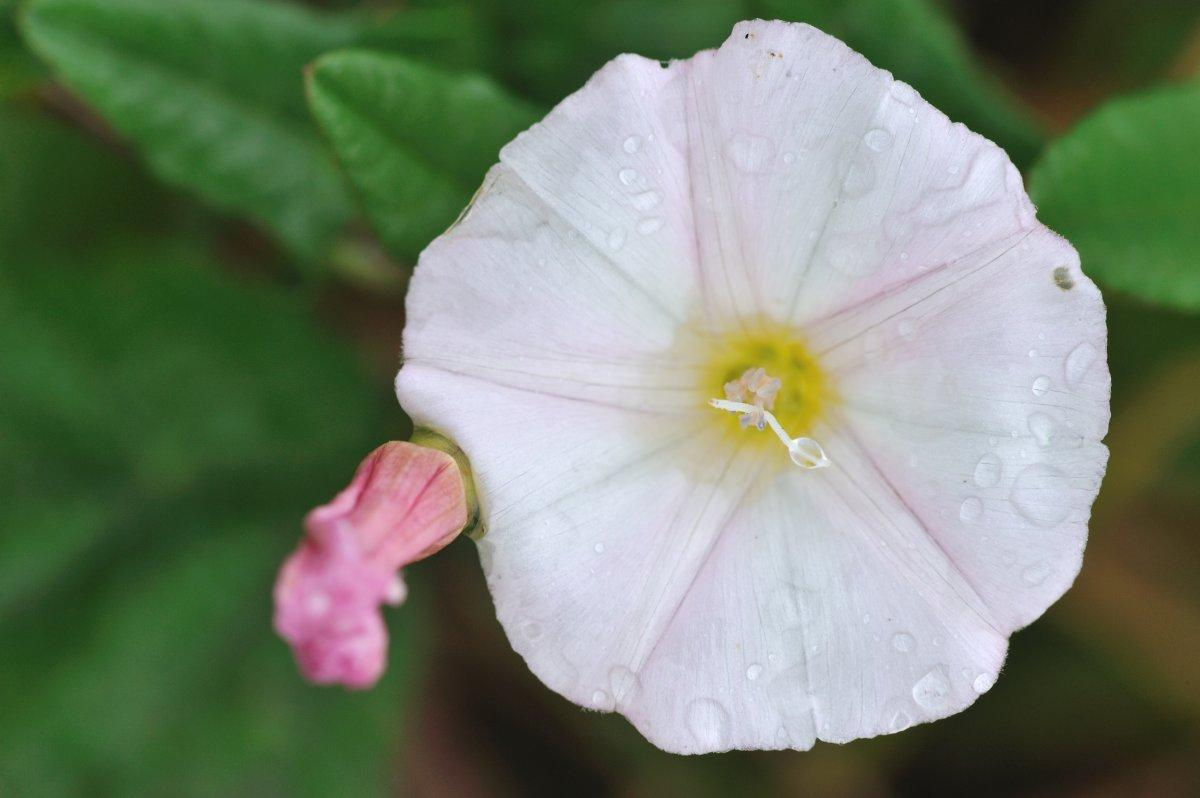haagwinde: (386, 7, 1128, 776)
